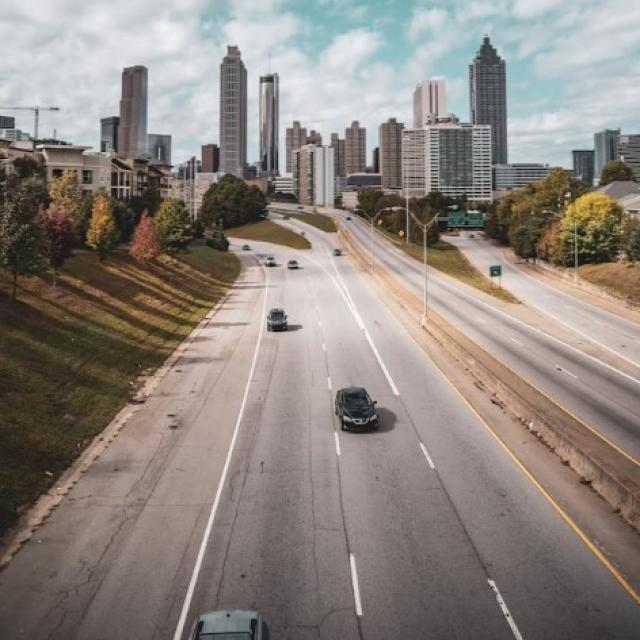car: (333, 386, 378, 433), (266, 308, 288, 332), (264, 255, 276, 267), (286, 259, 298, 270)
